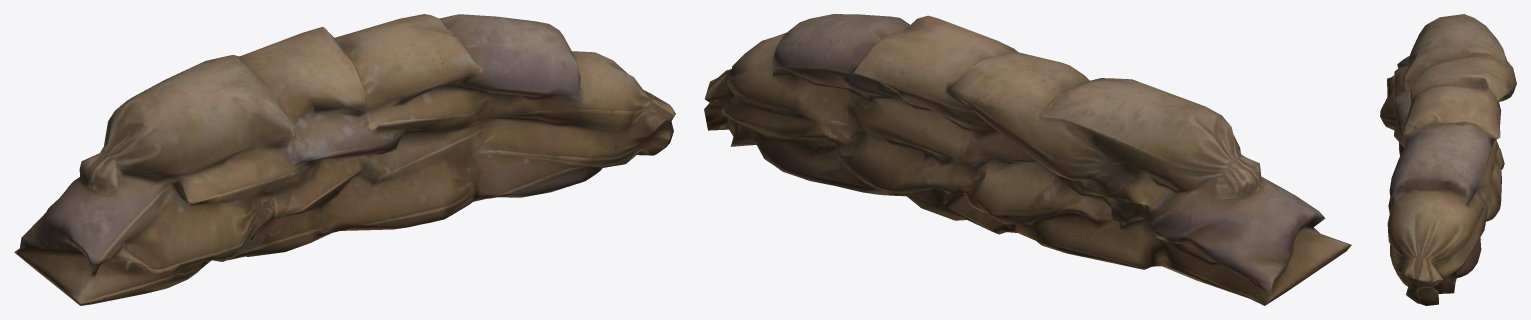
The model's file is sandbags.glb.
3 renders of one model, left to right at view 1: azimuth 30°, elevation 25°; view 2: azimuth 150°, elevation 25°; view 3: azimuth 270°, elevation 25°, orthographic. The views are drawn at different scales.
Visible parts, largest first — view 1: Sandbags; view 2: Sandbags; view 3: Sandbags.
Part boxes in pixels (x1,y1,x2,y2): Sandbags: [14, 14, 675, 305]; Sandbags: [704, 14, 1351, 305]; Sandbags: [1380, 14, 1516, 305].
Bounding box in the file's own units: 4.27 × 1.1 × 1.11.
Materials: 1 (1 with a texture image).
